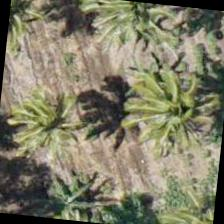Kelapa_Sawit: (1, 80, 100, 179), (136, 63, 223, 163), (96, 0, 193, 73), (162, 179, 217, 223)
